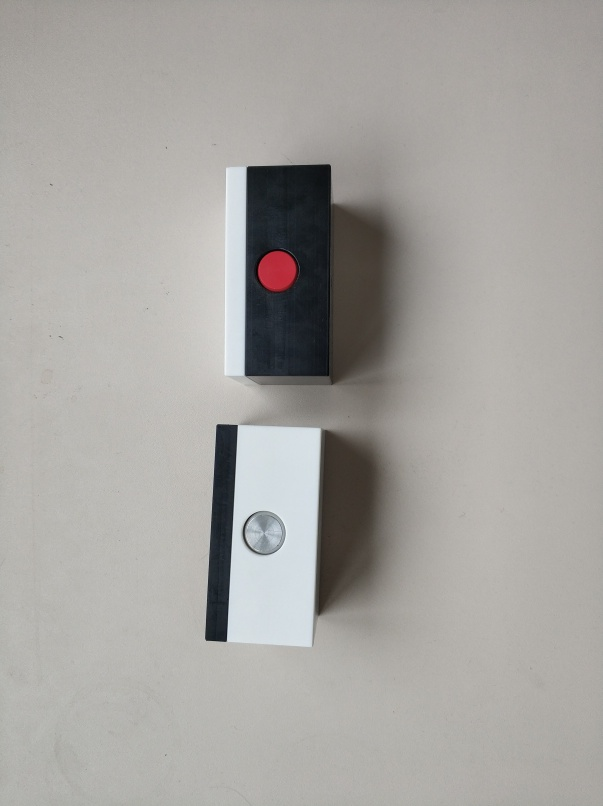black+white+silver: (203, 422, 321, 651)
white+black+red: (223, 162, 336, 386)
